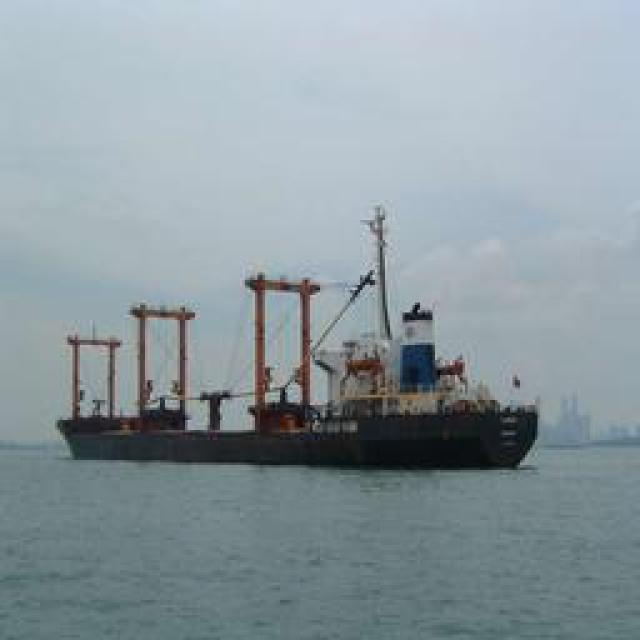Ship: (59, 208, 534, 473)
